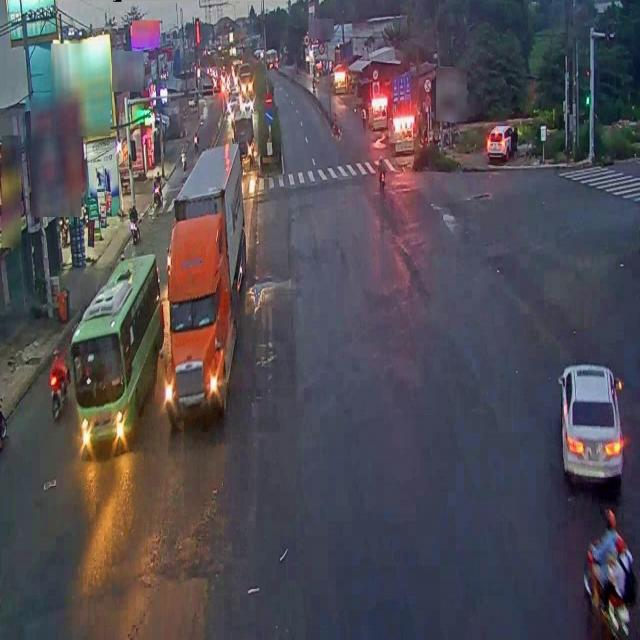bus: (73, 253, 164, 451)
motorcycle: (49, 347, 69, 418)
truck: (166, 146, 250, 428)
